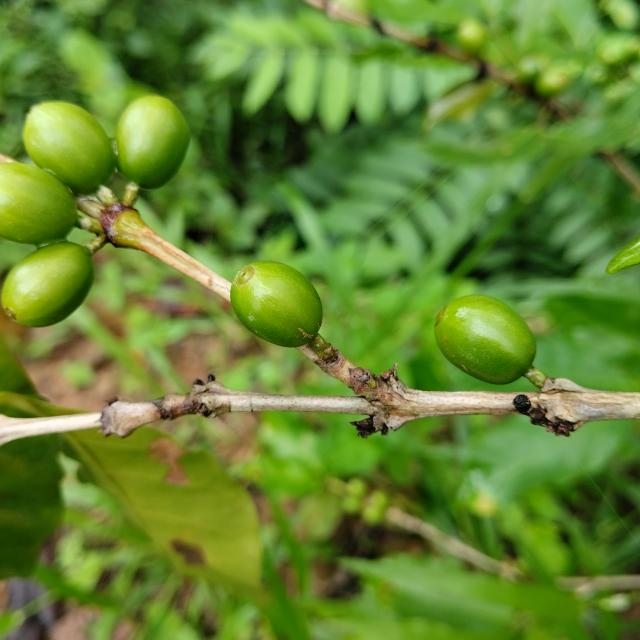green: (435, 295, 537, 384), (22, 101, 115, 194), (0, 241, 94, 327), (230, 261, 322, 347), (115, 95, 190, 188), (0, 162, 76, 246)
